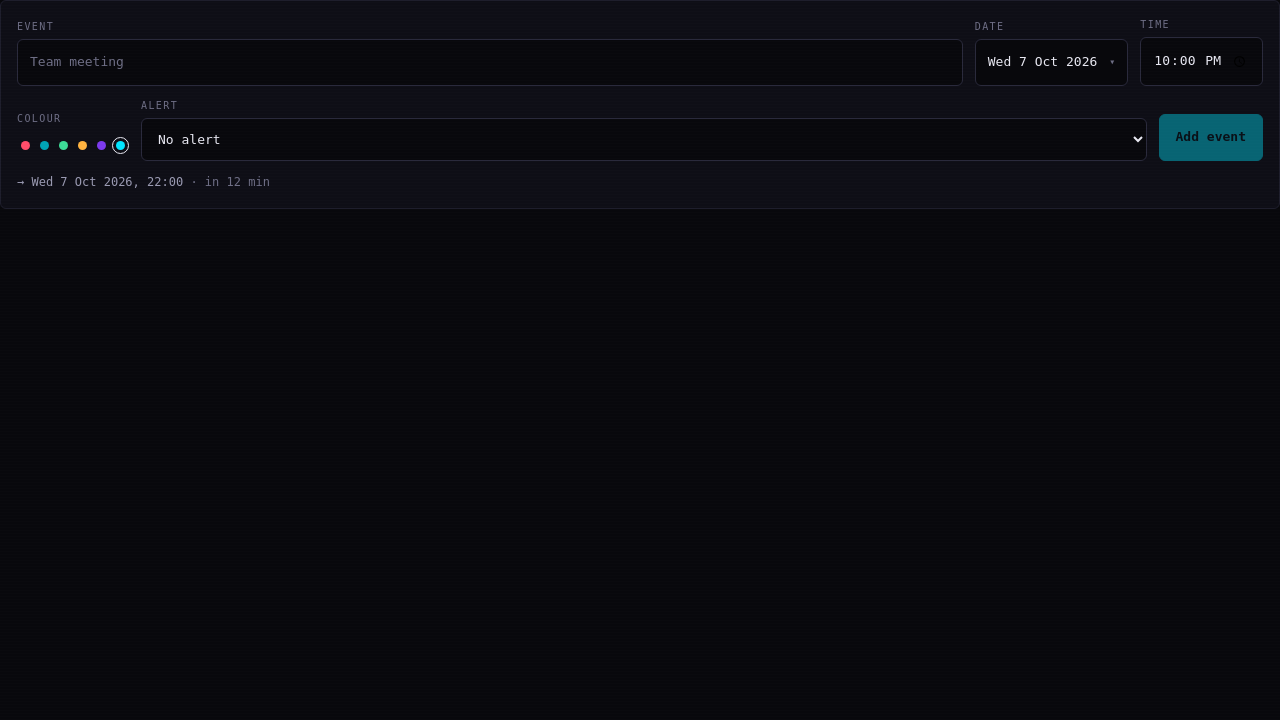
it: the event form › lets the calendar be closed, unlike the native picker
Click the button with aria-label "Event date".
click(1052, 62)  # box [975,39,1128,86]
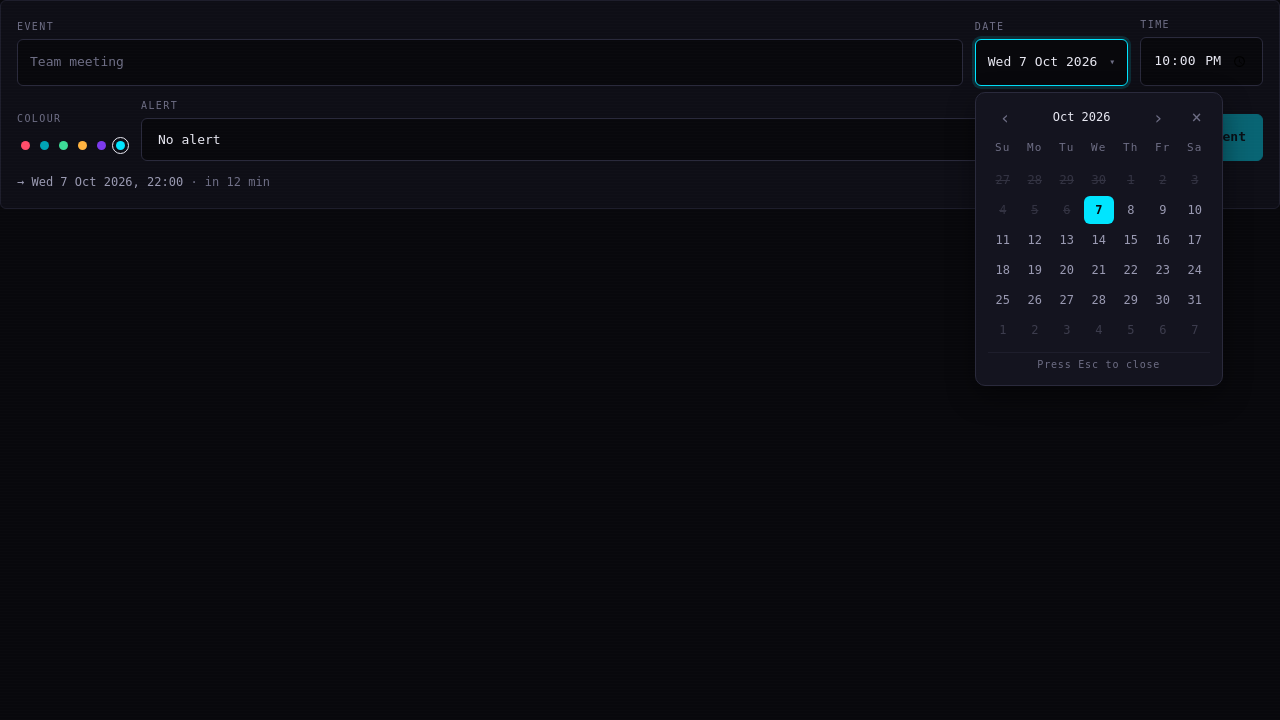
Expected: the text "Press Esc to close" is shown, [988,352,1210,373]
Click the button named "close the calendar".
click(1197, 118)  # box [1184,109,1210,126]
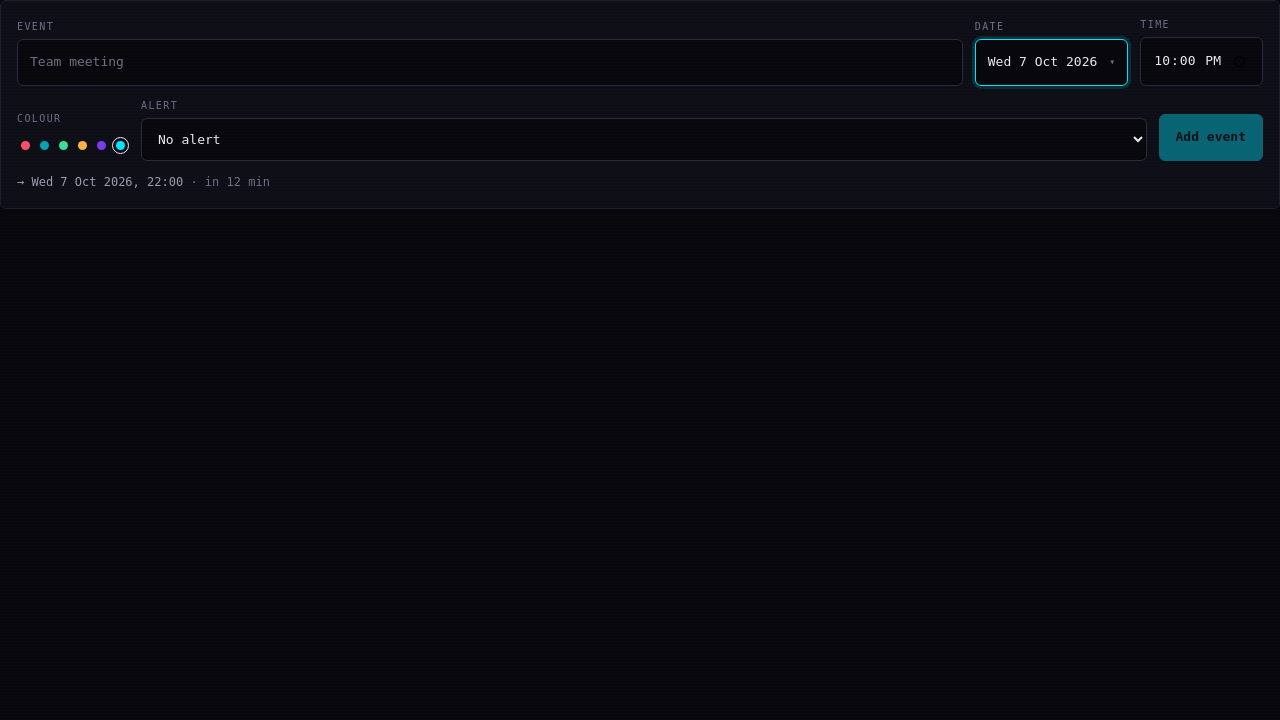
Expected: the dialog is gone
